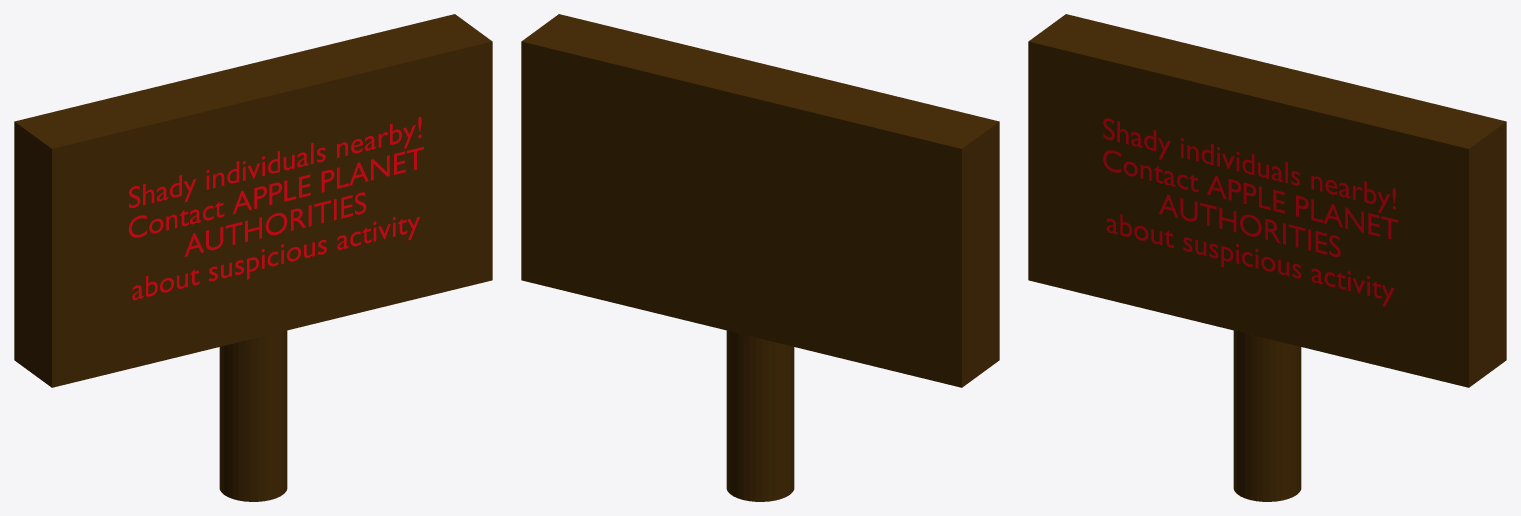
The model's file is sign.glb.
3 renders of one model, left to right at view 1: azimuth 30°, elevation 25°; view 2: azimuth 150°, elevation 25°; view 3: azimuth 330°, elevation 25°, orthographic.
Visible parts, largest first — view 1: Cube, Text; view 2: Cube; view 3: Cube, Text.
Boxes of the visible parts, bbox=[...] form: Cube: bbox=[14, 14, 492, 501]; Text: bbox=[128, 116, 423, 300]; Cube: bbox=[521, 14, 999, 501]; Cube: bbox=[1028, 14, 1506, 501]; Text: bbox=[1103, 118, 1398, 306].
Size of the model in its own units: 14.95 by 13.17 by 2.27.
